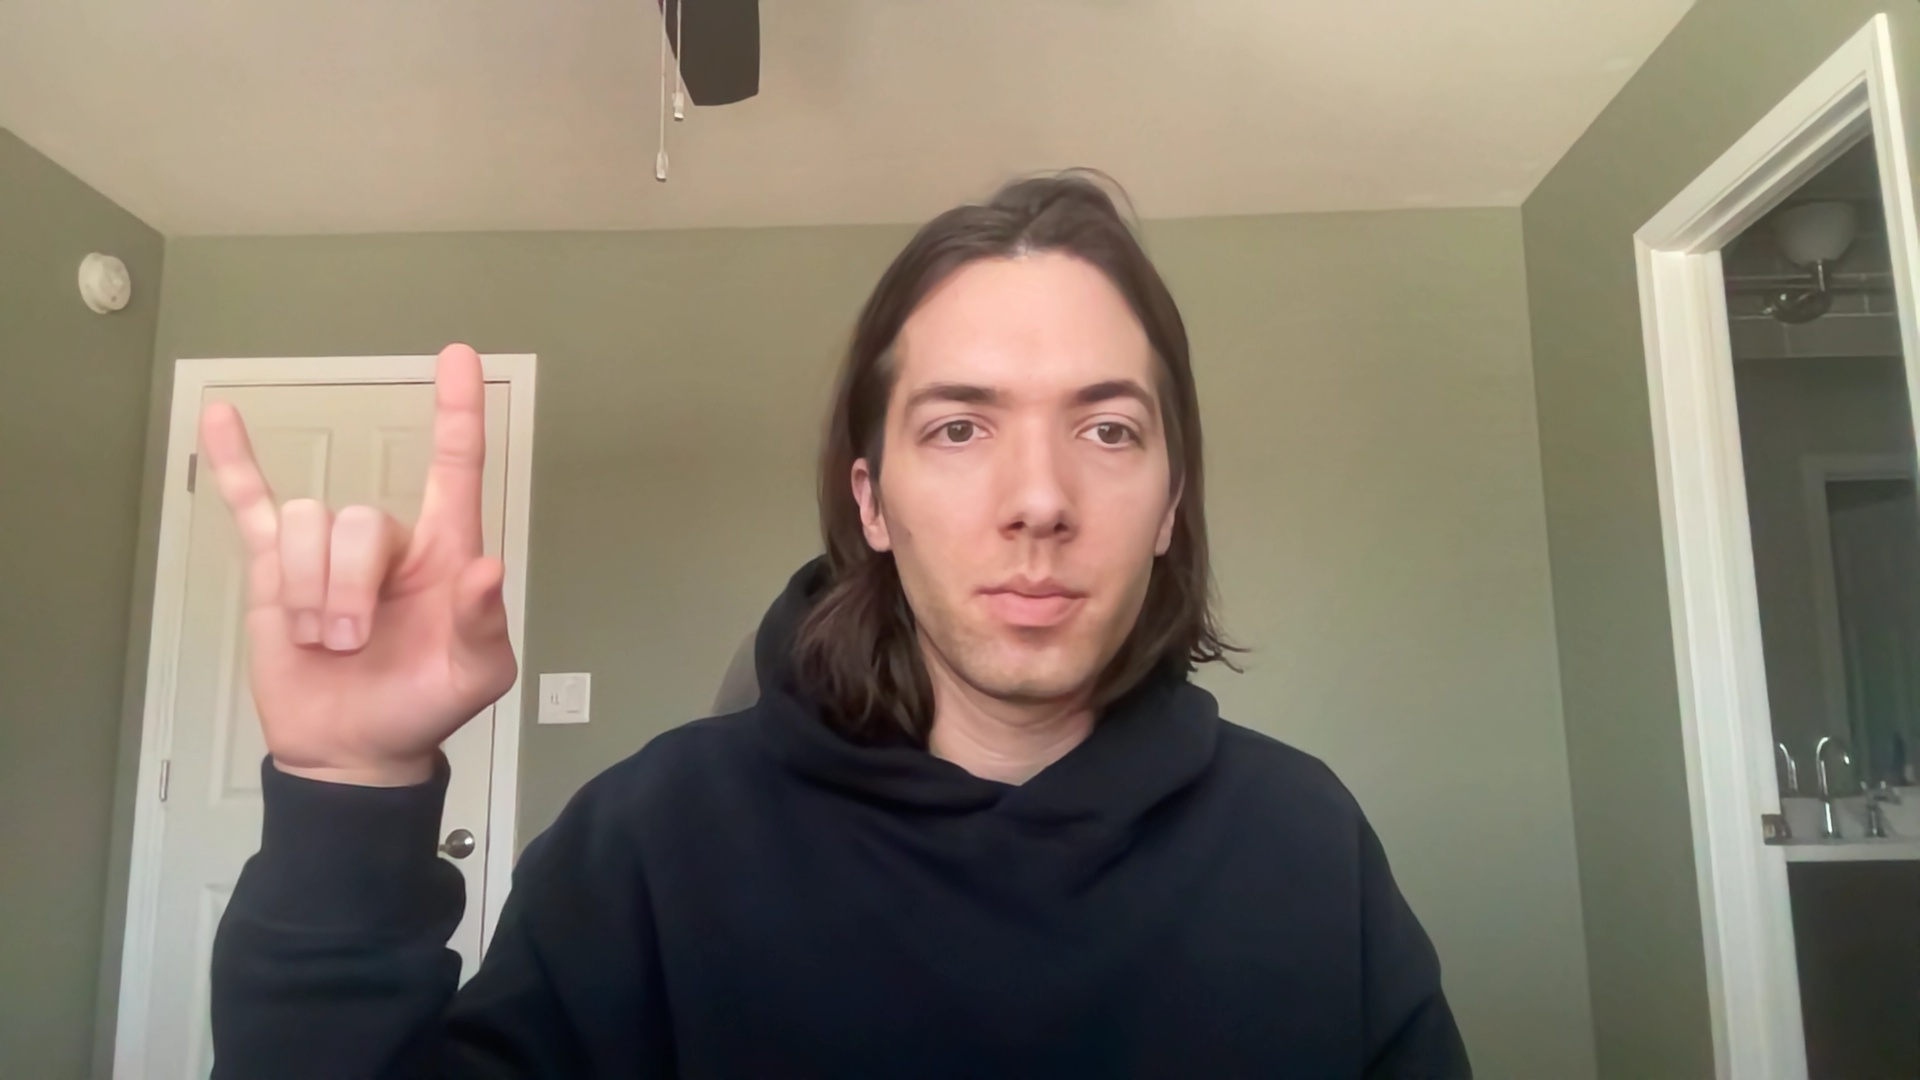I Love You: (186, 332, 543, 800)
